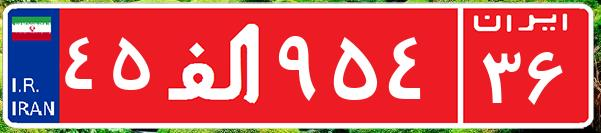3: (475, 38, 525, 113)
4: (385, 28, 445, 110), (57, 26, 110, 107)
5: (330, 28, 385, 110), (110, 28, 158, 105)
6: (525, 38, 570, 115)
9: (273, 28, 330, 110)
الف: (158, 15, 273, 115)
